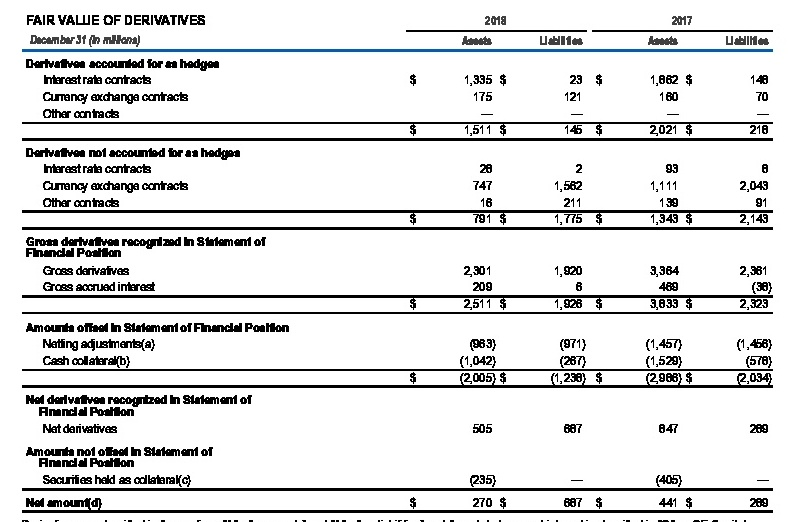table: (0, 0, 794, 522)
